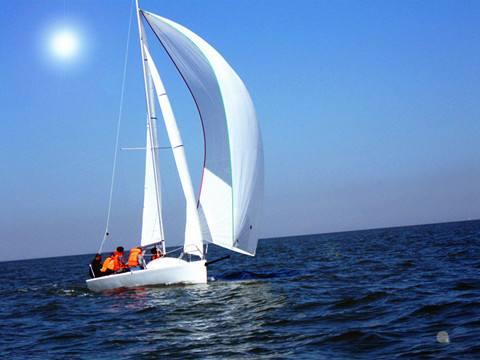fanchuan: (84, 1, 263, 299)
